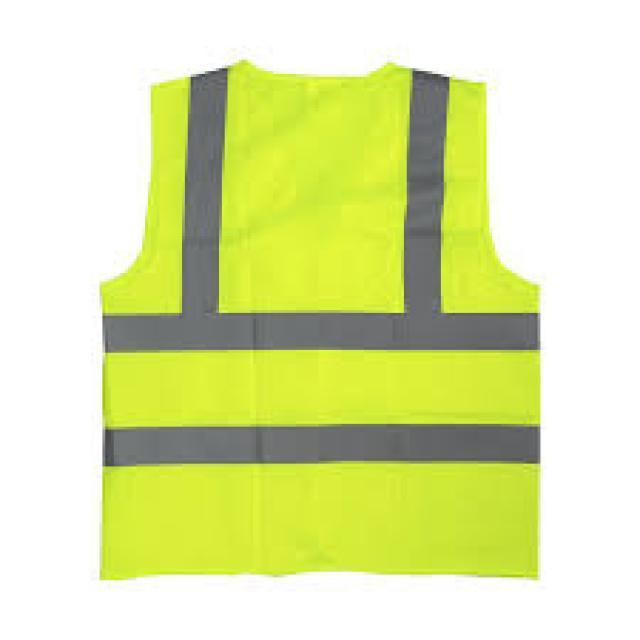Safety Vest: (95, 44, 559, 599)
